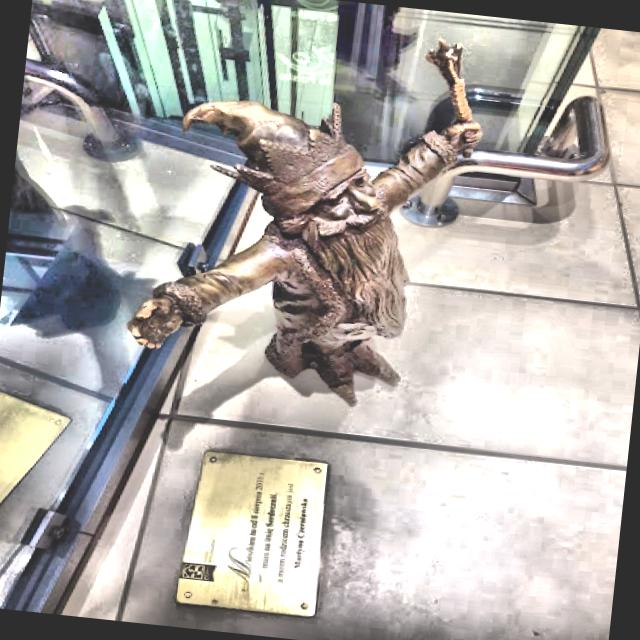Serdecznis: (128, 41, 481, 402)
